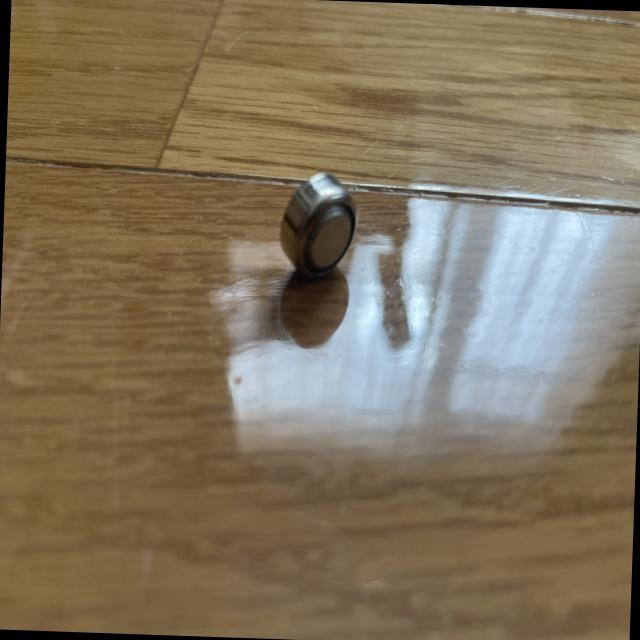COIN: (276, 170, 362, 282)
